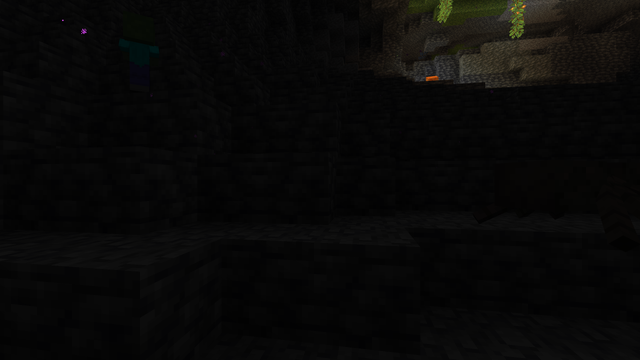araignees: (488, 149, 623, 246)
zombies: (123, 24, 155, 94)
